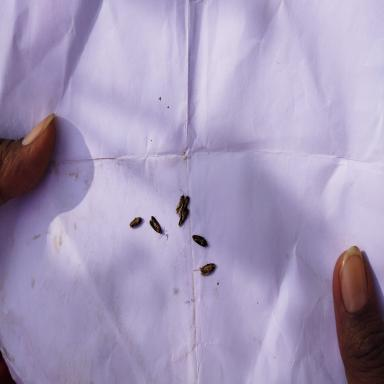pbw: (149, 216, 165, 239), (178, 207, 189, 230), (198, 261, 216, 275), (192, 234, 208, 249), (176, 190, 184, 218), (181, 195, 190, 215), (129, 217, 142, 228)
